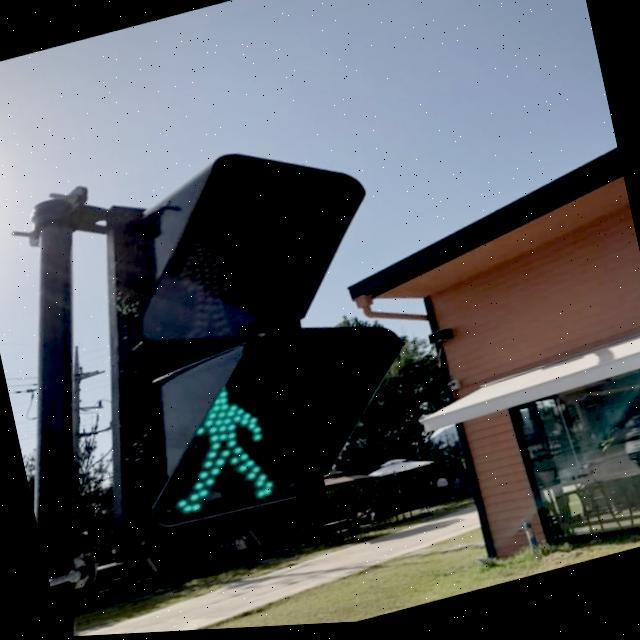greenlight: (114, 198, 318, 546)
